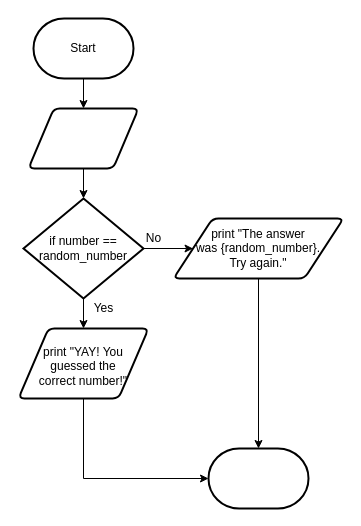
Image size: 361x526. Some labels were removed from this diagram. The shapes that lost their labels are listed below. From the top down, each one's centre as x and y in pixels, then its label:
(83,138): Ask for number between 0-9
(258,478): Stop
